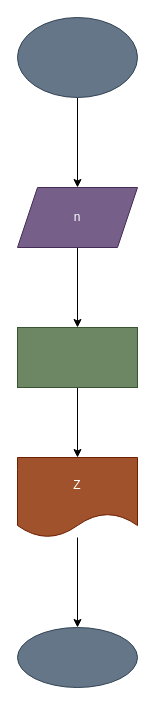
Some shapes in this 155 by 705 pixel diagram are drawn without their labels. The shapes that lost their labels are listed below. From the top down, each one's centre as x and y in pixels, then its label:
At [77,57]: "INICIO".
At [77,657]: "FIN".
